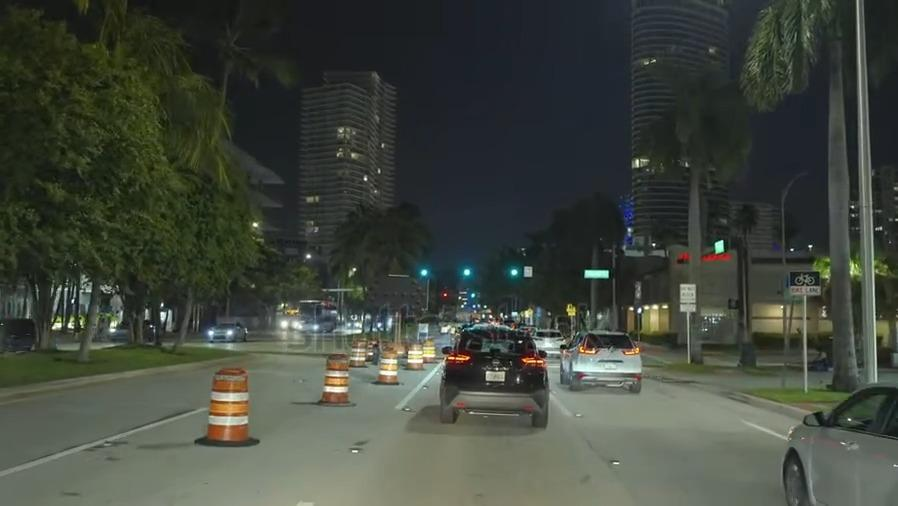bus: (295, 299, 339, 336), (282, 305, 295, 329)
car: (783, 385, 898, 506), (439, 324, 547, 425), (559, 329, 641, 392), (0, 314, 56, 351), (105, 314, 159, 340), (203, 318, 248, 342), (532, 324, 564, 355)
cone: (203, 365, 248, 437), (318, 351, 351, 399), (374, 344, 399, 384), (353, 336, 368, 365), (421, 338, 435, 368), (404, 342, 419, 367)
pedestrian: (648, 350, 720, 363)
wheel: (777, 453, 807, 506)
